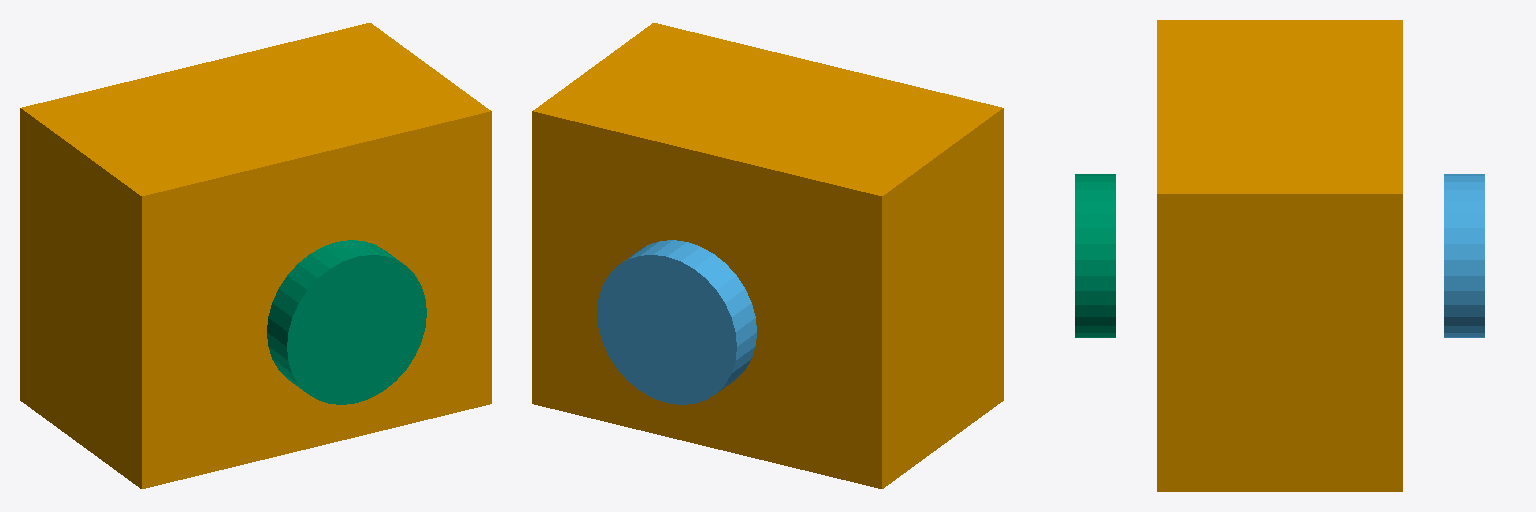
URDF robot description (diff_drive):
<?xml version="1.0"?>
<robot name="diff_drive">
  <link name="base_link">
    <visual>
      <origin xyz="0 0 0" rpy="0 0 0"/>
      <geometry>
        <box size="0.5 0.3 0.4"/>
      </geometry>
    </visual>
    <collision>
      <origin xyz="0 0 0" rpy="0 0 0"/>
      <geometry>
        <box size="0.5 0.3 0.4"/>
      </geometry>
    </collision>
  </link>

  <link name="left_wheel">
    <visual>
      <origin xyz="0 0 0" rpy="1.5708 0 0"/>
      <geometry>
        <cylinder radius="0.1" length="0.05"/>
      </geometry>
    </visual>
    <collision>
      <origin xyz="0 0 0" rpy="1.5708 0 0"/>
      <geometry>
        <cylinder radius="0.1" length="0.05"/>
      </geometry>
    </collision>
  </link>

  <link name="right_wheel">
    <visual>
      <origin xyz="0 0 0" rpy="1.5708 0 0"/>
      <geometry>
        <cylinder radius="0.1" length="0.05"/>
      </geometry>
    </visual>
    <collision>
      <origin xyz="0 0 0" rpy="1.5708 0 0"/>
      <geometry>
        <cylinder radius="0.1" length="0.05"/>
      </geometry>
    </collision>
  </link>

  <joint name="left_wheel_joint" type="continuous">
    <parent link="base_link"/>
    <child link="left_wheel"/>
    <origin xyz="0 0.225 0" rpy="0 0 0"/>
    <axis xyz="0 0 1"/>
  </joint>

  <joint name="right_wheel_joint" type="continuous">
    <parent link="base_link"/>
    <child link="right_wheel"/>
    <origin xyz="0 -0.225 0" rpy="0 0 0"/>
    <axis xyz="0 0 1"/>
  </joint>
</robot>

--- Facts derived from the render (not from the file) ---
The picture shows the robot from 3 angles, left to right: view 1: azimuth 30°, elevation 25°; view 2: azimuth 150°, elevation 25°; view 3: azimuth 270°, elevation 25°; orthographic projection.
Model diff_drive with 3 links and 2 joints (2 continuous), rooted at base_link, posed every joint at zero.
Links seen in each view (by area): view 1: base_link, right_wheel; view 2: base_link, left_wheel; view 3: base_link, left_wheel, right_wheel.
Link boxes in pixels (x1,y1,x2,y2): base_link: [20, 23, 491, 488]; right_wheel: [267, 240, 426, 404]; base_link: [532, 23, 1003, 488]; left_wheel: [597, 240, 756, 404]; base_link: [1157, 20, 1402, 491]; left_wheel: [1444, 174, 1484, 337]; right_wheel: [1075, 174, 1115, 337].
Size in the robot's own frame: 0.5 by 0.5 by 0.4 metres.
Geometry: primitives only (box / cylinder / sphere), no mesh files.
